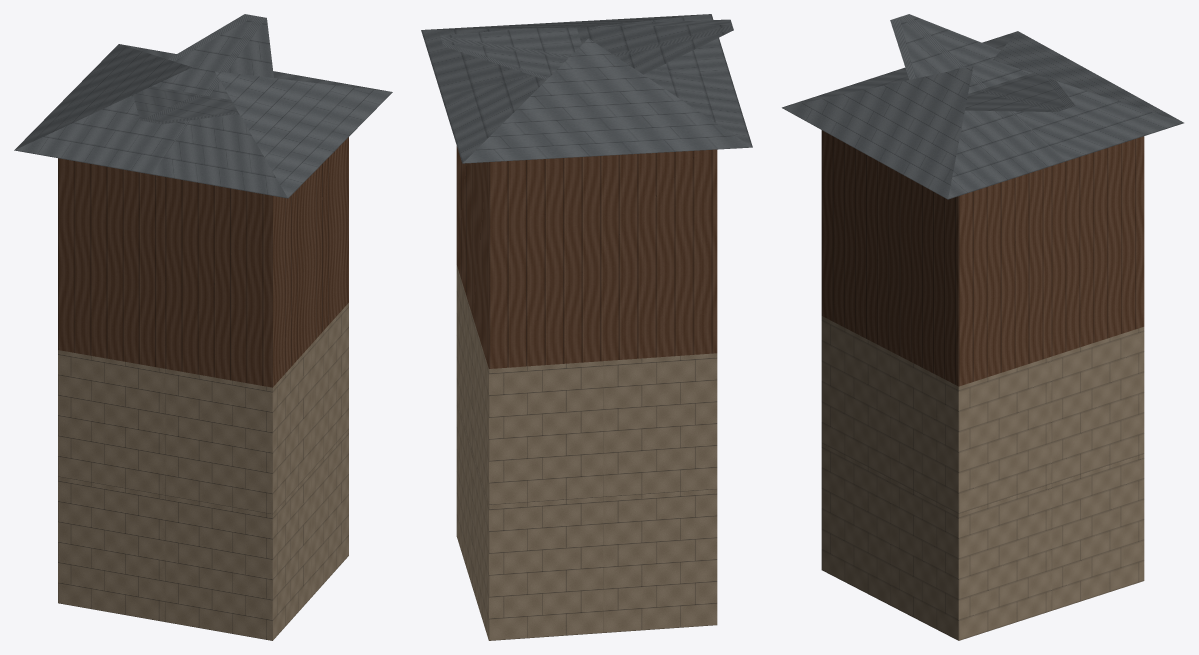
The model's file is bld_c9_8_497.gltf.
3 renders of one model, left to right at view 1: azimuth 30°, elevation 25°; view 2: azimuth 150°, elevation 25°; view 3: azimuth 270°, elevation 25°, orthographic. The views are drawn at different scales.
Visible parts, largest first — view 1: bld_c9_8_497; view 2: bld_c9_8_497; view 3: bld_c9_8_497.
Boxes of the visible parts, x1,y1,x2,y2 form: bld_c9_8_497: [14, 14, 392, 640]; bld_c9_8_497: [421, 14, 752, 640]; bld_c9_8_497: [782, 14, 1183, 640].
Size of the model in its own units: 6.91 by 9.8 by 6.99.
Materials: 3 (3 with a texture image).
